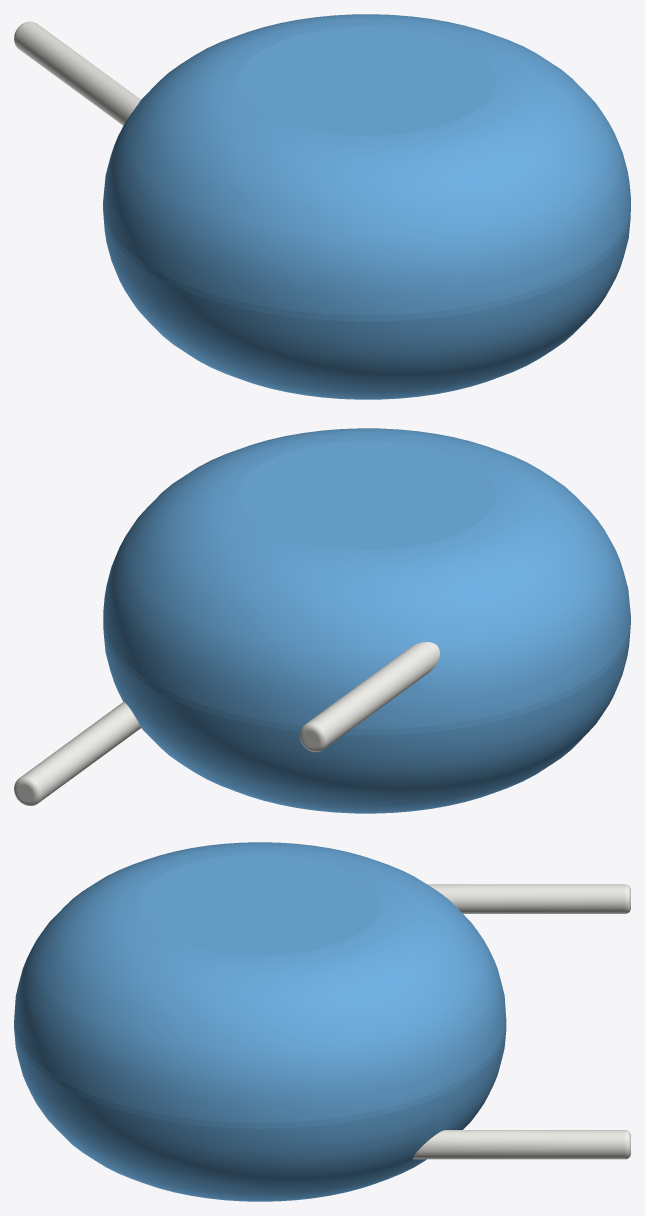
The model's file is RV_Disc_D12mm_W6.3mm_P7.5mm.glb.
3 renders of one model, top to bottom at view 1: azimuth 30°, elevation 25°; view 2: azimuth 150°, elevation 25°; view 3: azimuth 270°, elevation 25°, orthographic. The views are drawn at different scales.
Parts seen in each view (by area): view 1: Shape_IndexedFaceSet.001, Shape_IndexedFaceSet.002, Shape_IndexedFaceSet.003, Shape_IndexedFaceSet.004, Shape_IndexedFaceSet; view 2: Shape_IndexedFaceSet.001, Shape_IndexedFaceSet.002, Shape_IndexedFaceSet.003, Shape_IndexedFaceSet.004, Shape_IndexedFaceSet.006, Shape_IndexedFaceSet; view 3: Shape_IndexedFaceSet.001, Shape_IndexedFaceSet.002, Shape_IndexedFaceSet.003, Shape_IndexedFaceSet.006, Shape_IndexedFaceSet.004, Shape_IndexedFaceSet.
Boxes of the visible parts, left/top/right/bottom form: Shape_IndexedFaceSet.001: left=103, top=14, right=630, bottom=315; Shape_IndexedFaceSet.002: left=103, top=213, right=630, bottom=399; Shape_IndexedFaceSet.003: left=238, top=26, right=495, bottom=135; Shape_IndexedFaceSet.004: left=15, top=22, right=140, bottom=125; Shape_IndexedFaceSet: left=103, top=204, right=630, bottom=321; Shape_IndexedFaceSet.001: left=103, top=428, right=630, bottom=729; Shape_IndexedFaceSet.002: left=103, top=624, right=630, bottom=813; Shape_IndexedFaceSet.003: left=238, top=441, right=495, bottom=549; Shape_IndexedFaceSet.004: left=307, top=642, right=439, bottom=748; Shape_IndexedFaceSet.006: left=20, top=701, right=140, bottom=802; Shape_IndexedFaceSet: left=103, top=618, right=630, bottom=735; Shape_IndexedFaceSet.001: left=14, top=842, right=506, bottom=1123; Shape_IndexedFaceSet.002: left=14, top=1029, right=506, bottom=1201; Shape_IndexedFaceSet.003: left=140, top=854, right=380, bottom=955; Shape_IndexedFaceSet.006: left=413, top=1130, right=624, bottom=1159; Shape_IndexedFaceSet.004: left=427, top=884, right=624, bottom=913; Shape_IndexedFaceSet: left=14, top=1023, right=506, bottom=1128.
Size of the model in its own units: 4.72 by 2.48 by 5.92.
